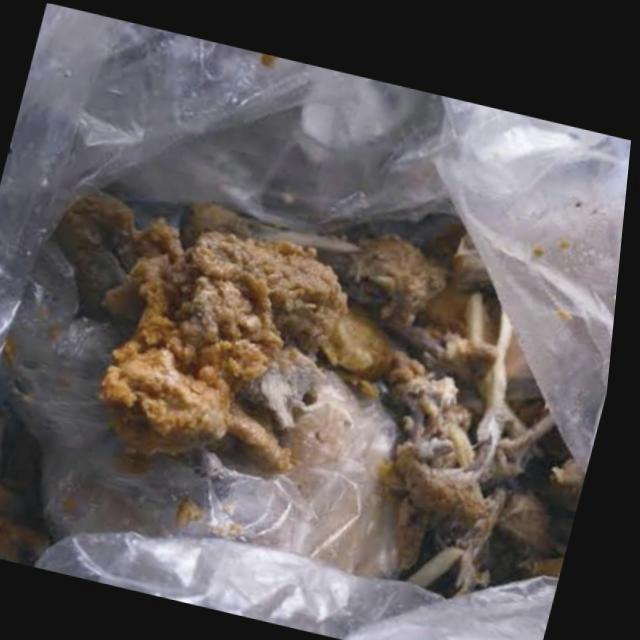left_over_food: (103, 218, 353, 478), (386, 287, 589, 592), (196, 201, 455, 324), (57, 190, 150, 321), (325, 303, 431, 392)
